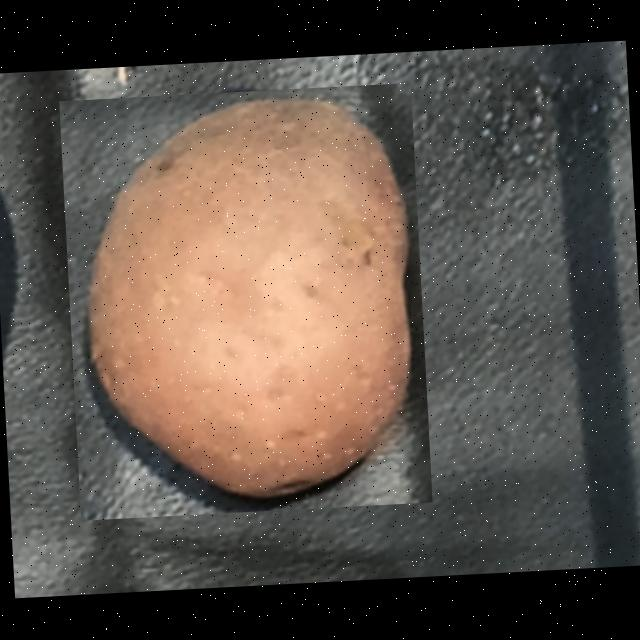Diseased-fungal potato: (59, 83, 432, 521)
